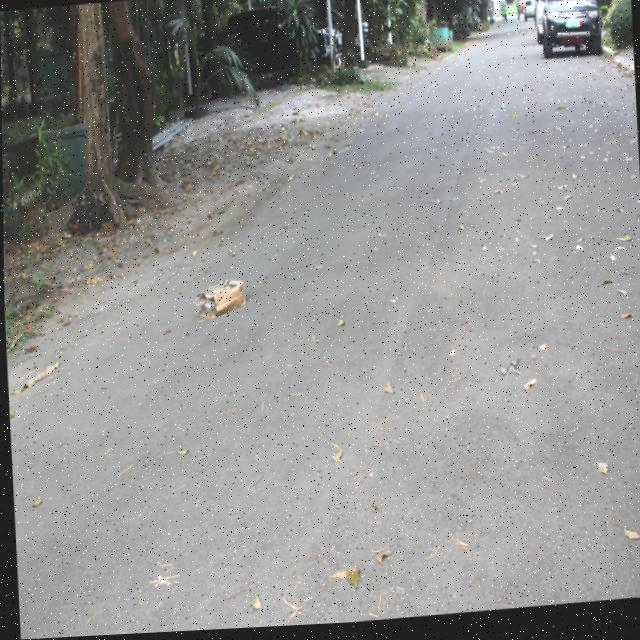Paper_Bag: (193, 280, 244, 326)
